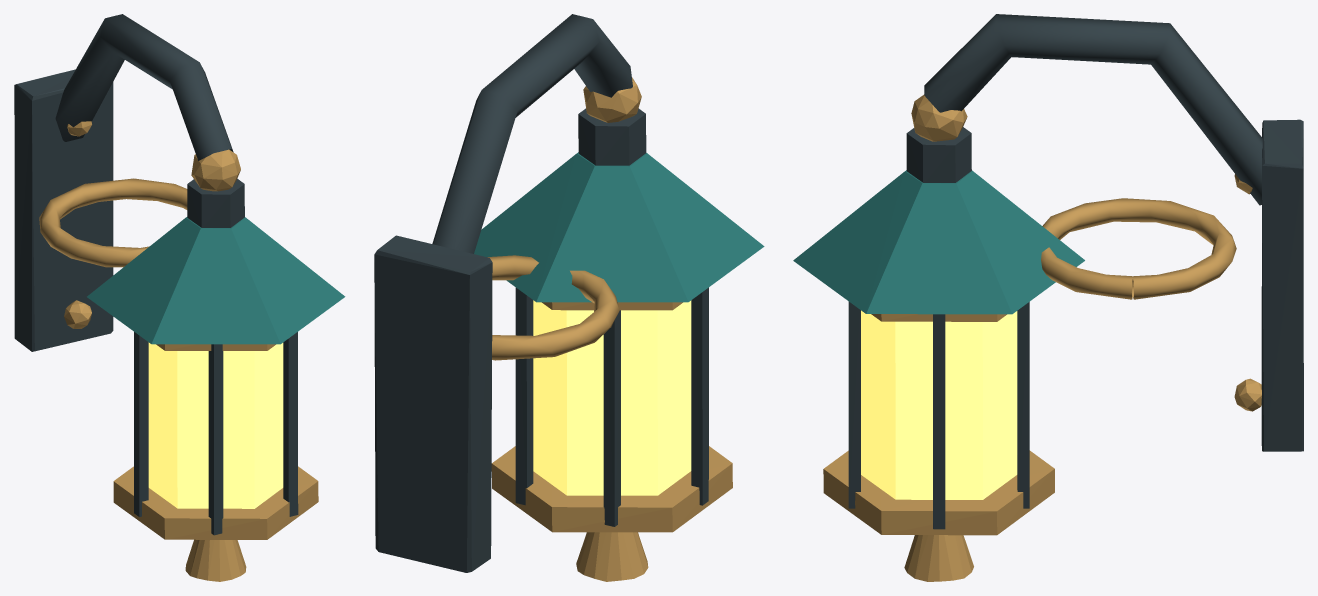
File: prop_aegis_civic_wall_lantern_lod2.glb
3 renders of one model, left to right at view 1: azimuth 30°, elevation 25°; view 2: azimuth 150°, elevation 25°; view 3: azimuth 270°, elevation 25°, orthographic. The views are drawn at different scales.
Parts seen in each view (by area): view 1: aegis_civic_wall_lantern.001; view 2: aegis_civic_wall_lantern.001; view 3: aegis_civic_wall_lantern.001.
Part boxes in pixels (left/top/right/bottom): aegis_civic_wall_lantern.001: left=14, top=14, right=345, bottom=581; aegis_civic_wall_lantern.001: left=374, top=14, right=764, bottom=581; aegis_civic_wall_lantern.001: left=793, top=14, right=1303, bottom=581.
Size of the model in its own units: 0.5496 by 1.31 by 1.11.
